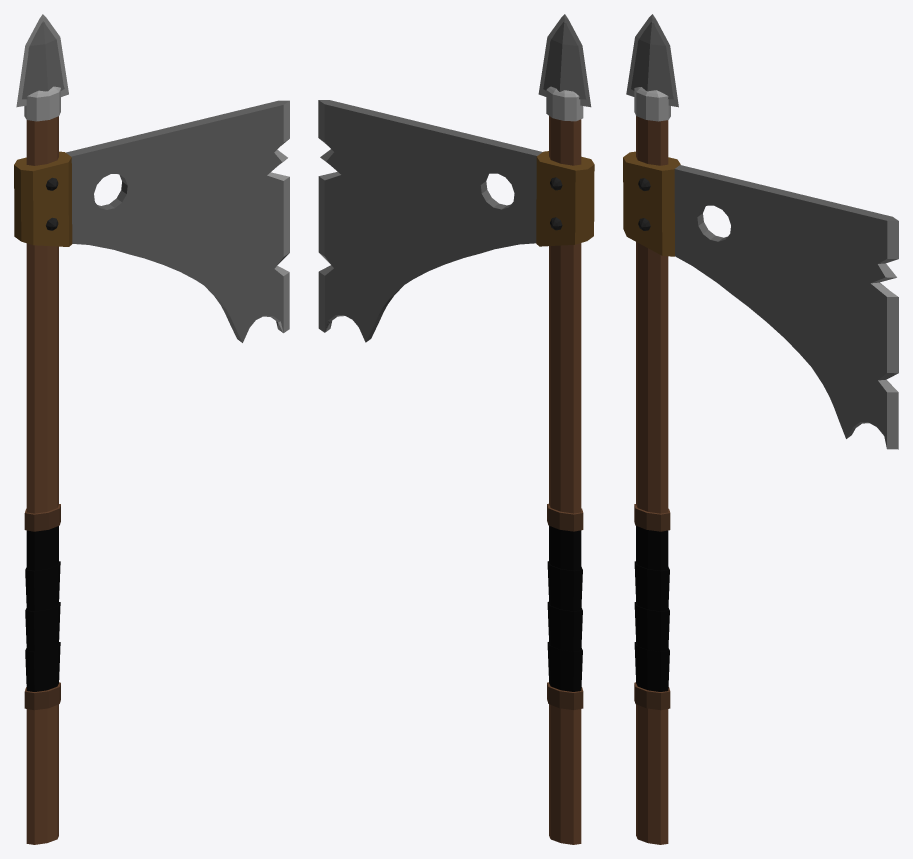
The model's file is Battle_Axe.fbx.
3 views of the same model, side by side, from view 1: azimuth 30°, elevation 25°; view 2: azimuth 150°, elevation 25°; view 3: azimuth 330°, elevation 25° (orthographic).
Parts seen in each view (by area): view 1: Cube, Cylinder, Cylinder.002, Cylinder.001; view 2: Cube, Cylinder, Cylinder.002, Cylinder.001; view 3: Cube, Cylinder, Cylinder.002, Cylinder.001.
Boxes of the visible parts, bbox=[...] form: Cube: bbox=[14, 100, 289, 342]; Cylinder: bbox=[24, 116, 60, 844]; Cylinder.002: bbox=[16, 14, 68, 107]; Cylinder.001: bbox=[24, 86, 60, 121]; Cube: bbox=[318, 100, 594, 342]; Cylinder: bbox=[547, 116, 583, 844]; Cylinder.002: bbox=[538, 14, 591, 107]; Cylinder.001: bbox=[546, 86, 583, 121]; Cube: bbox=[623, 151, 898, 449]; Cylinder: bbox=[634, 116, 670, 844]; Cylinder.002: bbox=[626, 14, 678, 107]; Cylinder.001: bbox=[634, 87, 670, 121].
Bounding box in the file's own units: 35.54 × 103 × 5.29.
